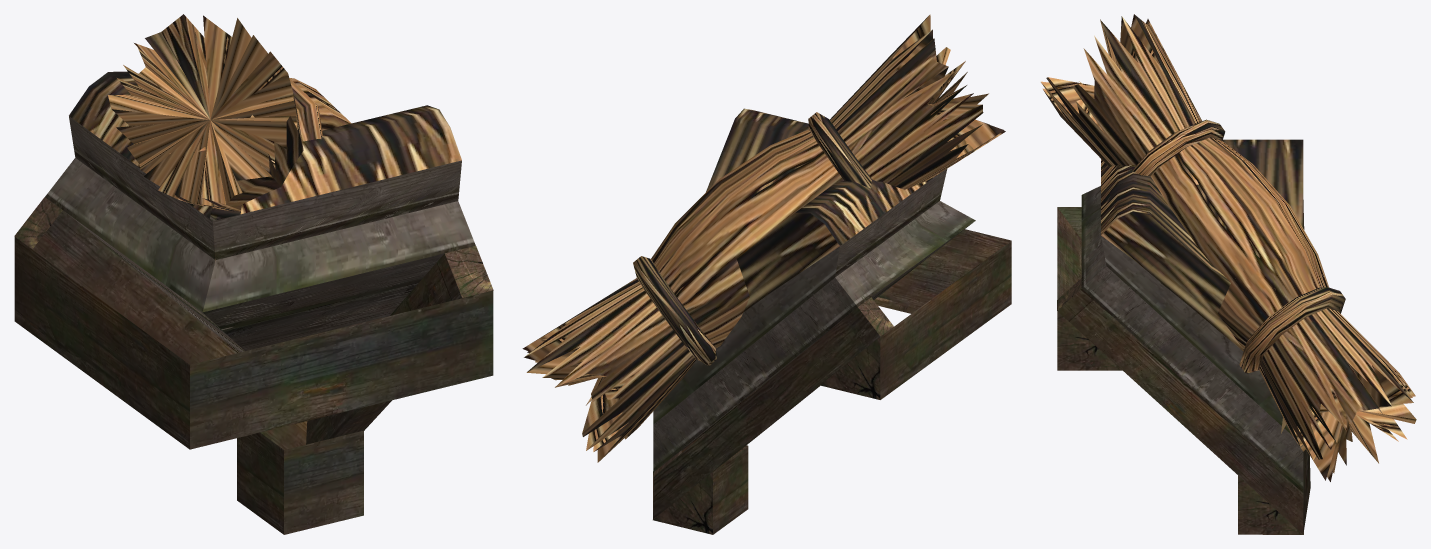
3 views of the same model, side by side, from view 1: azimuth 30°, elevation 25°; view 2: azimuth 150°, elevation 25°; view 3: azimuth 270°, elevation 25° (orthographic). The views are drawn at different scales.
Parts seen in each view (by area): view 1: SM_BB_T1_Extended_Roof_Small_Valley_LOD0; view 2: SM_BB_T1_Extended_Roof_Small_Valley_LOD0; view 3: SM_BB_T1_Extended_Roof_Small_Valley_LOD0.
Boxes of the visible parts, x1=… form: SM_BB_T1_Extended_Roof_Small_Valley_LOD0: x1=14, y1=14, x2=493, y2=534; SM_BB_T1_Extended_Roof_Small_Valley_LOD0: x1=522, y1=14, x2=1011, y2=534; SM_BB_T1_Extended_Roof_Small_Valley_LOD0: x1=1041, y1=14, x2=1416, y2=534.
Bounding box in the file's own units: 1.43 × 1.84 × 1.43.
Materials: 3 (3 with a texture image).
